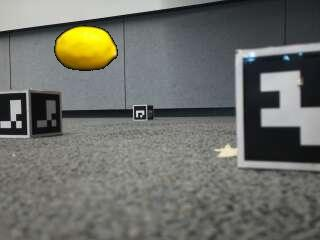lemon: (55, 26, 117, 70)
